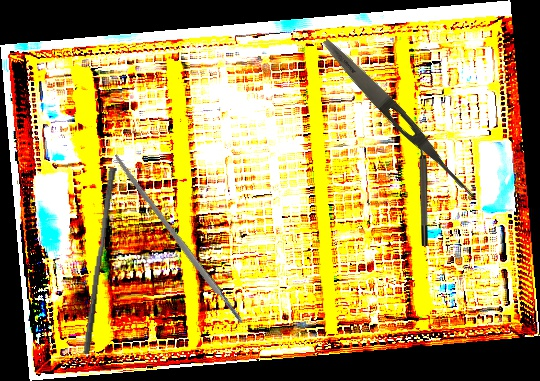Dressing Forceps: (317, 34, 482, 203)
Fixation Ring: (415, 135, 430, 246)
Pusher: (83, 166, 117, 356)
Scalpel Handle: (111, 152, 245, 327)
